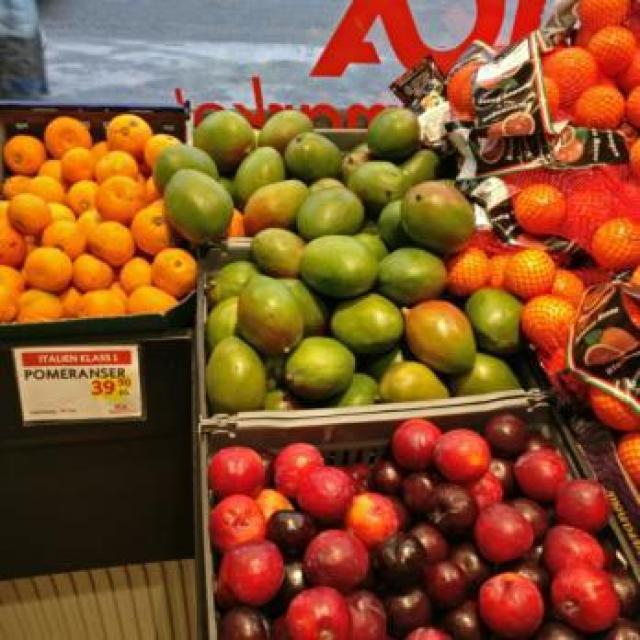Plum: (550, 559, 629, 623), (469, 498, 537, 562), (283, 579, 355, 638), (475, 566, 541, 628), (362, 526, 422, 594), (298, 465, 366, 517), (431, 429, 497, 481), (515, 441, 574, 493), (208, 443, 262, 491)
